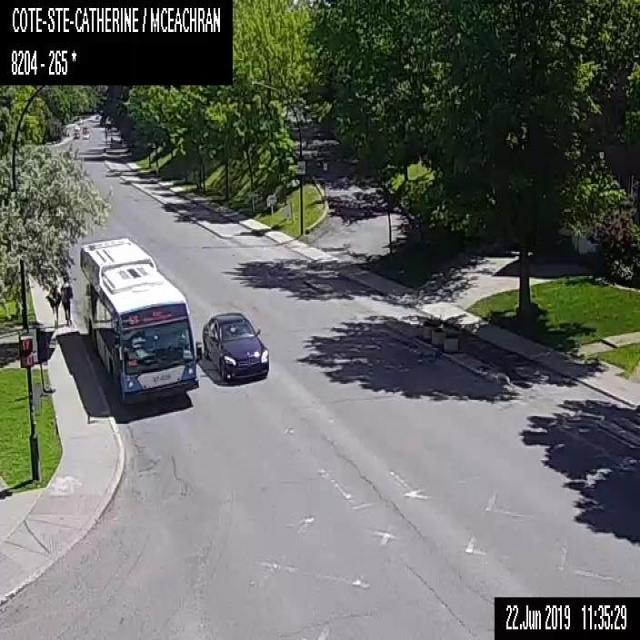bus: (79, 235, 203, 404)
pedestrian: (47, 273, 60, 327), (60, 274, 73, 327)
vehicle: (202, 312, 268, 382), (73, 124, 79, 131), (82, 125, 88, 132), (82, 132, 89, 138), (73, 131, 79, 138)
